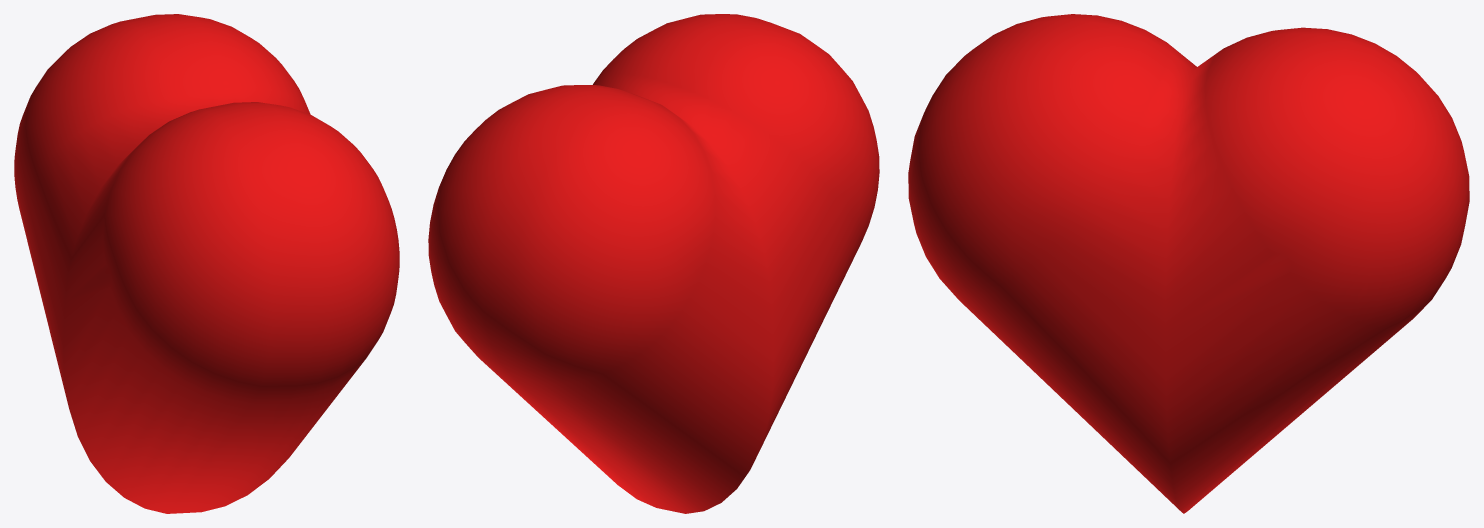
File: CorazonVida.fbx
The picture shows the model from 3 angles, left to right: view 1: azimuth 30°, elevation 25°; view 2: azimuth 150°, elevation 25°; view 3: azimuth 270°, elevation 25°; orthographic projection. The views are drawn at different scales.
Parts seen in each view (by area): view 1: Cube; view 2: Cube; view 3: Cube.
Boxes of the visible parts, box(x1,y1,x2,y2) form: Cube: box(14, 14, 399, 513); Cube: box(428, 14, 879, 513); Cube: box(908, 14, 1469, 513).
Size of the model in its own units: 217 by 312 by 340.
